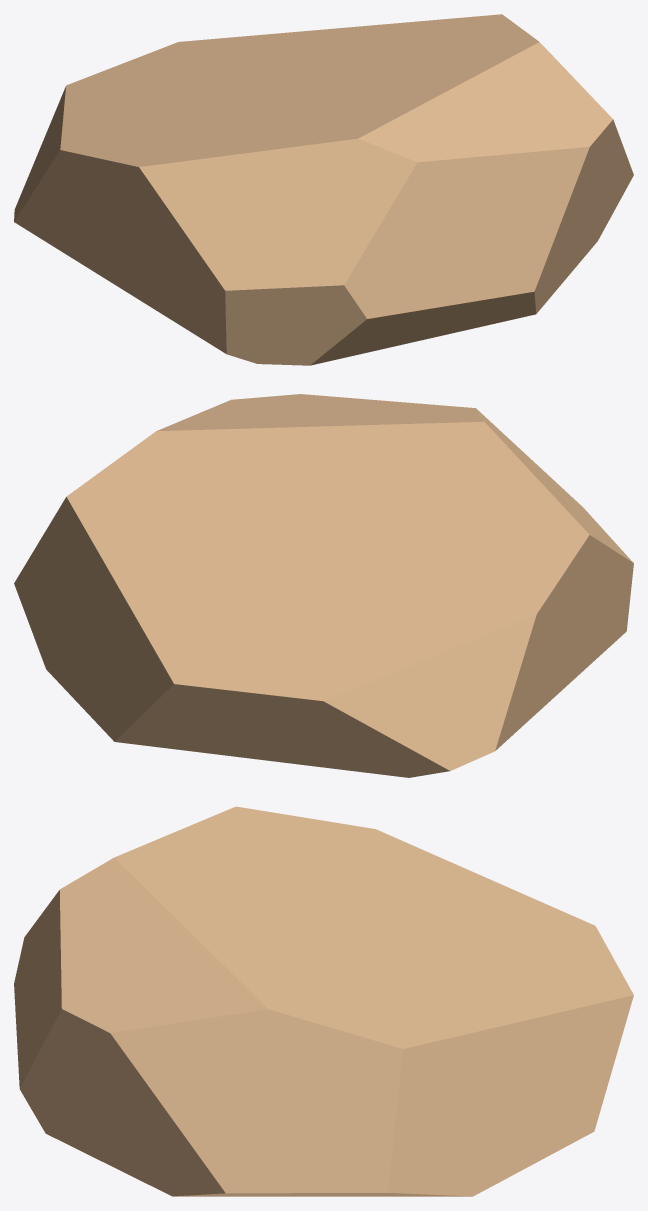
File: Rock_Flat_m_01.fbx
3 views of the same model, one above another, from view 1: azimuth 30°, elevation 25°; view 2: azimuth 150°, elevation 25°; view 3: azimuth 270°, elevation 25° (orthographic). The views are drawn at different scales.
Parts seen in each view (by area): view 1: Rock_Flat_m_01; view 2: Rock_Flat_m_01; view 3: Rock_Flat_m_01.
Boxes of the visible parts, x1,y1,x2,y2 form: Rock_Flat_m_01: (14,14,633,365); Rock_Flat_m_01: (14,394,633,777); Rock_Flat_m_01: (14,806,633,1196).
Size of the model in its own units: 121 by 41.92 by 118.
